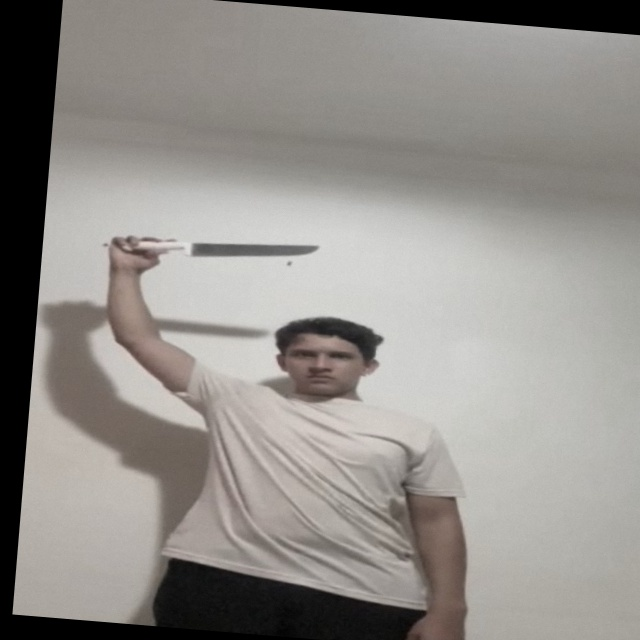Sharp-Object: (192, 234, 322, 267)
